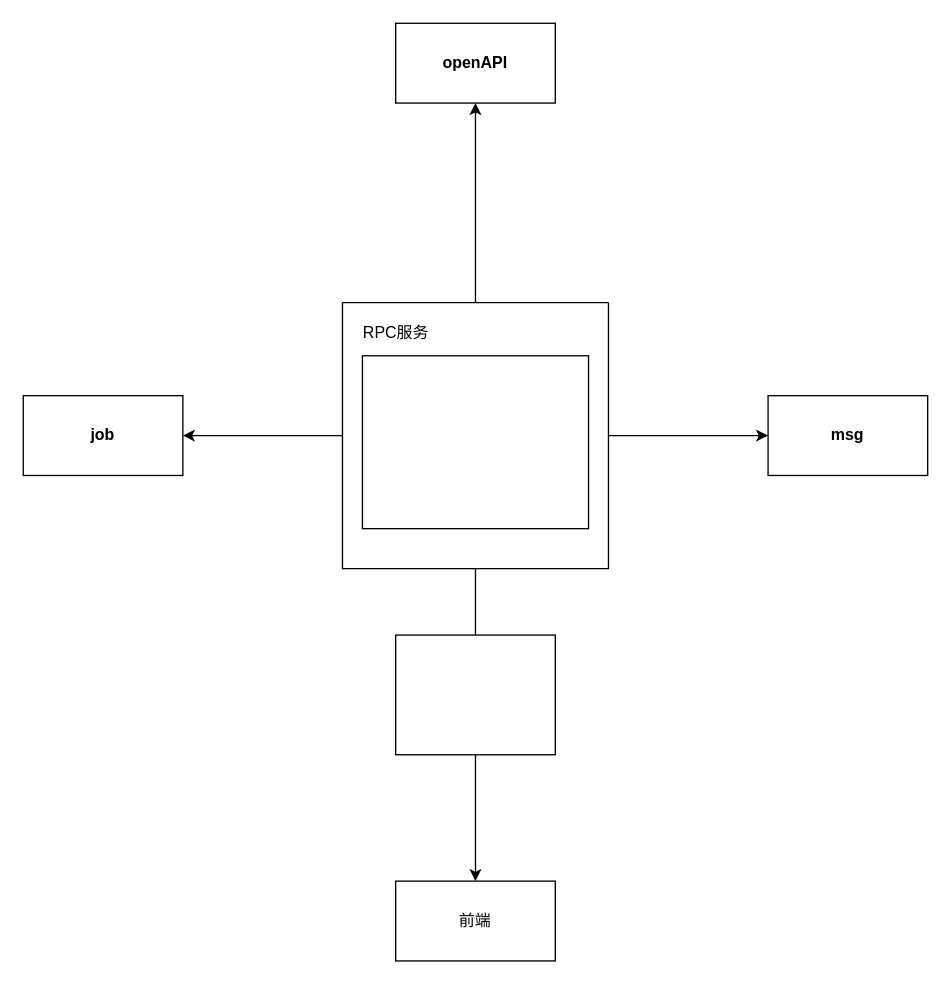
The diagram is 951 pixels wide and 984 high, and some of its shapes have lost their labels. Here are the shapes that lost their labels. From the top down, the centre of each, then its label:
pixel 475 441: app服务
pixel 474 694: web服务
